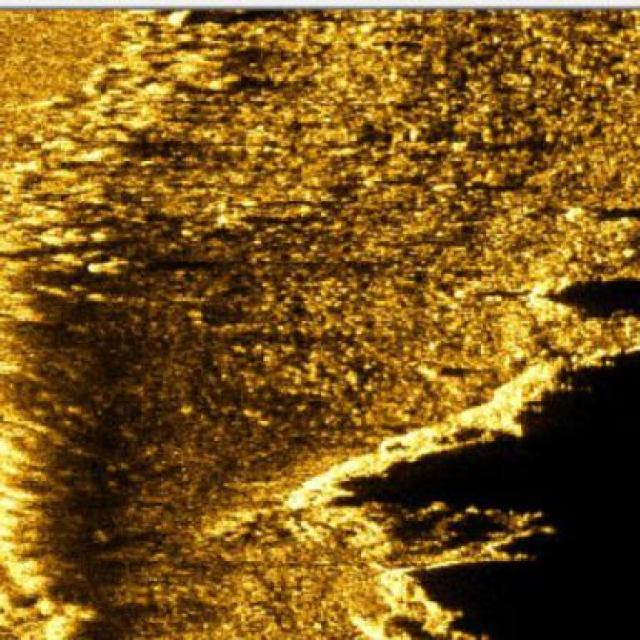bedrock group: (0, 10, 638, 638)
